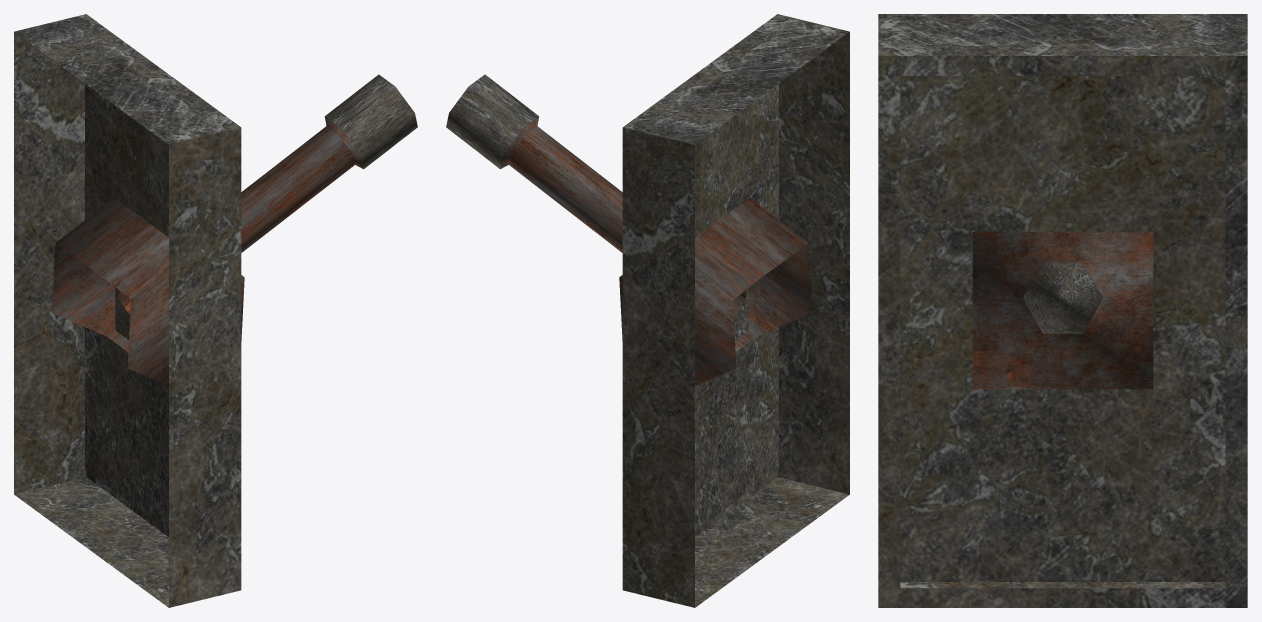
Rendered from lever_anim3.obj.
3 views of the same model, side by side, from view 1: azimuth 30°, elevation 25°; view 2: azimuth 150°, elevation 25°; view 3: azimuth 270°, elevation 25° (orthographic). The views are drawn at different scales.
Parts seen in each view (by area): view 1: Cube, Cylinder; view 2: Cube, Cylinder; view 3: Cube, Cylinder.
Part boxes in pixels (x1,y1,x2,y2): Cube: [14, 14, 241, 607]; Cylinder: [52, 74, 417, 385]; Cube: [622, 14, 849, 607]; Cylinder: [446, 74, 811, 385]; Cube: [878, 14, 1247, 607]; Cylinder: [972, 232, 1153, 389].
Size of the model in its own units: 1.45 by 2 by 1.21.
2 materials, 2 textured.
